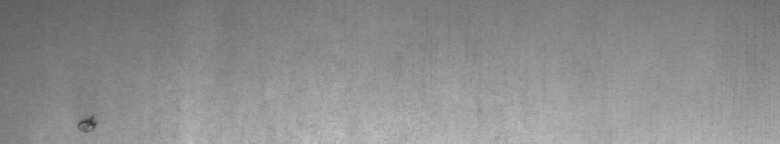fi: (76, 109, 101, 136)
